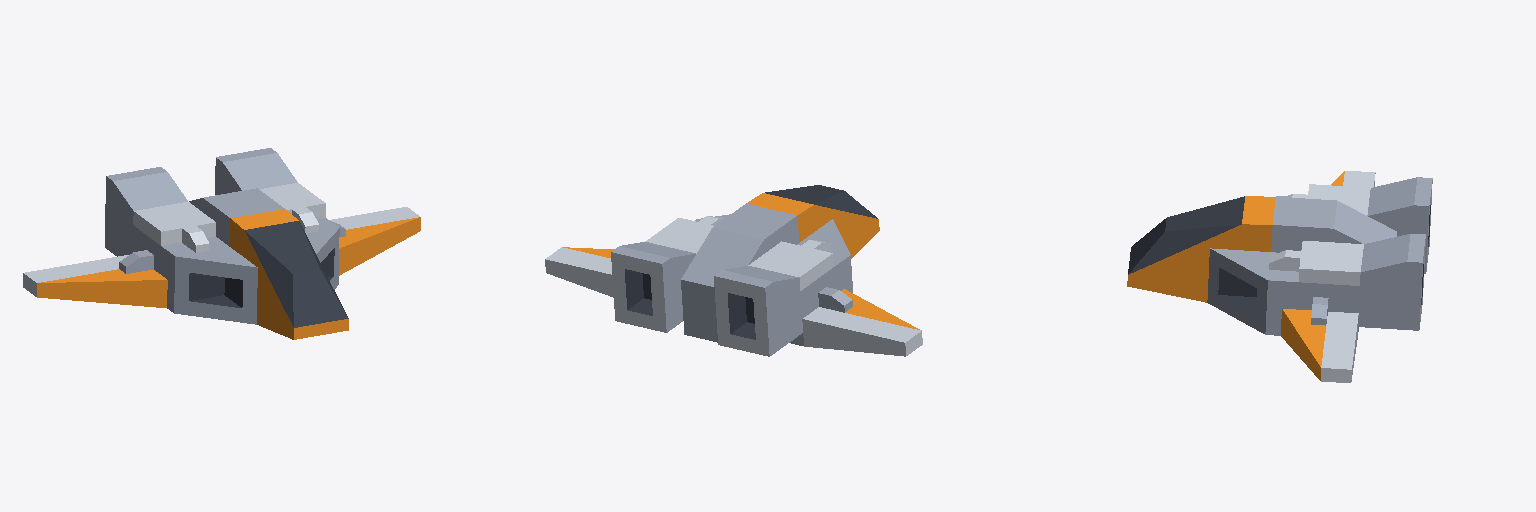
File: enemyB.obj
3 renders of one model, left to right at view 1: azimuth 30°, elevation 25°; view 2: azimuth 150°, elevation 25°; view 3: azimuth 270°, elevation 25°, orthographic.
Parts seen in each view (by area): view 1: craft_speederC; view 2: craft_speederC; view 3: craft_speederC.
Boxes of the visible parts, <box> form: craft_speederC: <box>23,148,420,339</box>; craft_speederC: <box>545,185,922,356</box>; craft_speederC: <box>1127,171,1432,382</box>.
Size of the model in its own units: 2.81 by 0.6578 by 1.99.